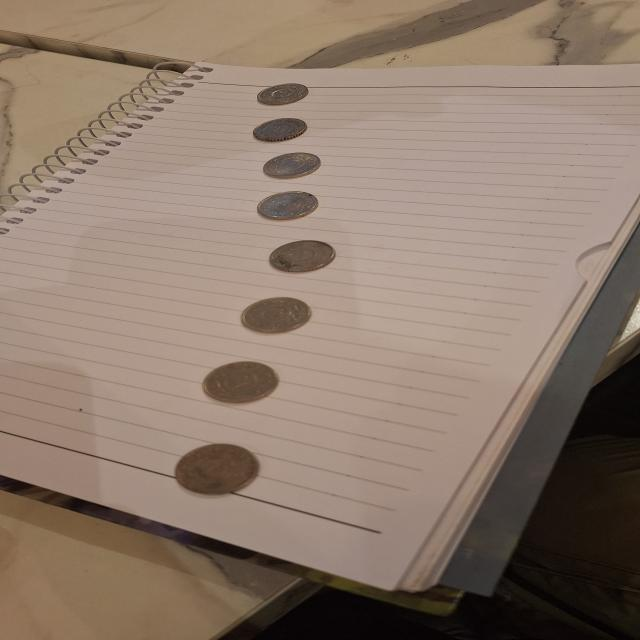quarter pound: (166, 441, 265, 498), (198, 357, 284, 404), (236, 295, 317, 335), (268, 236, 336, 275), (256, 188, 318, 220), (260, 151, 325, 178), (253, 113, 307, 145), (252, 79, 312, 107)
